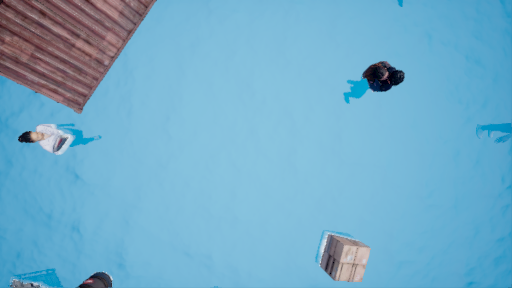person: (329, 55, 406, 111), (19, 118, 96, 161)
